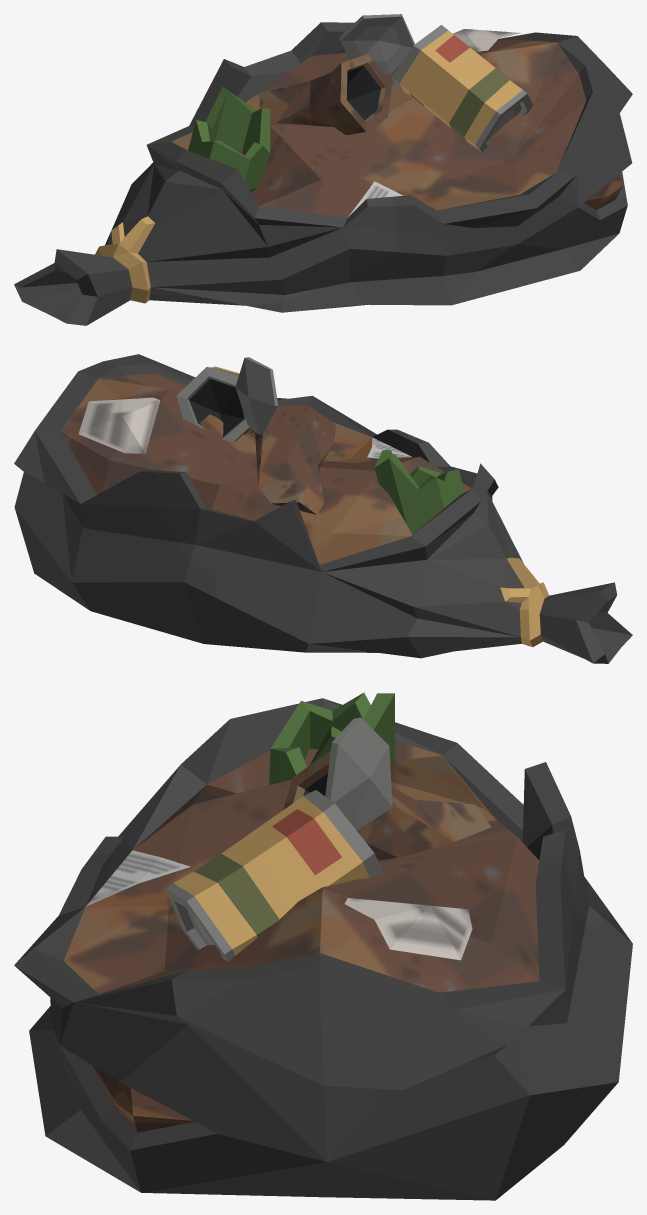
The model's file is SM_Prop_TrashBag_08.obj.
3 views of the same model, one above another, from view 1: azimuth 30°, elevation 25°; view 2: azimuth 150°, elevation 25°; view 3: azimuth 270°, elevation 25° (orthographic). The views are drawn at different scales.
Visible parts, largest first — view 1: SM_Prop_TrashBag_08_0; view 2: SM_Prop_TrashBag_08_0; view 3: SM_Prop_TrashBag_08_0.
Part boxes in pixels (x1=…): SM_Prop_TrashBag_08_0: x1=14, y1=14, x2=632, y2=325; SM_Prop_TrashBag_08_0: x1=14, y1=354, x2=632, y2=663; SM_Prop_TrashBag_08_0: x1=14, y1=692, x2=632, y2=1200.
Bounding box in the file's own units: 1.15 × 0.4277 × 0.6938.
1 material, 1 textured.
